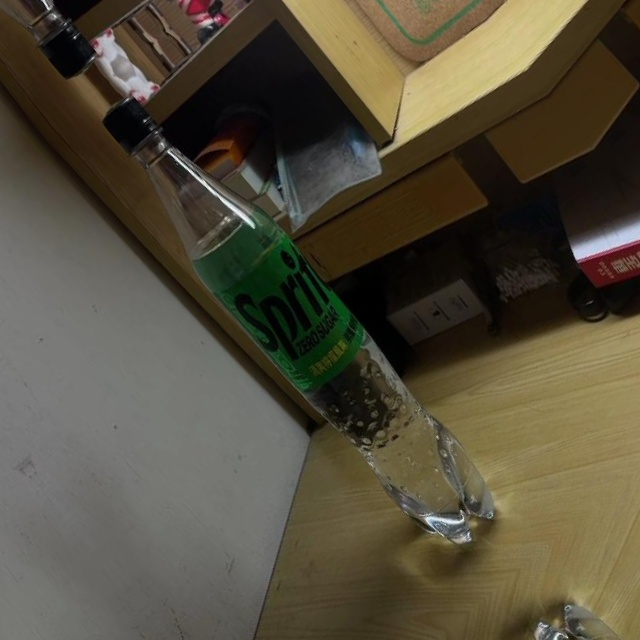Sprite: (80, 77, 513, 567)
